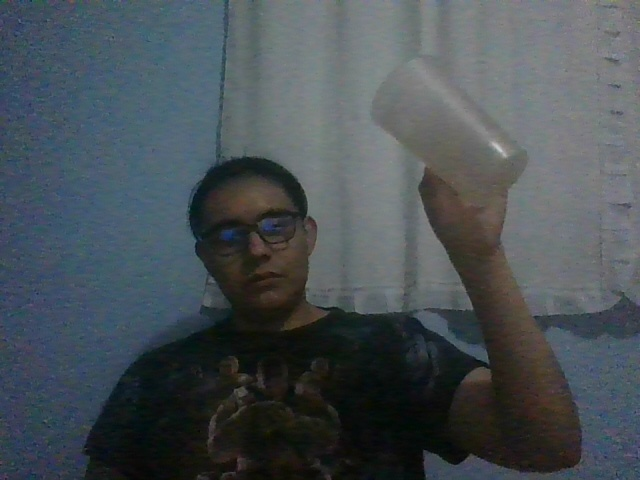vaso: (368, 55, 528, 206)
